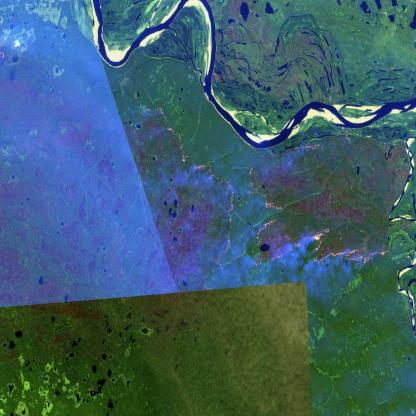fire: (245, 141, 391, 272), (142, 104, 236, 272), (0, 41, 15, 68)
